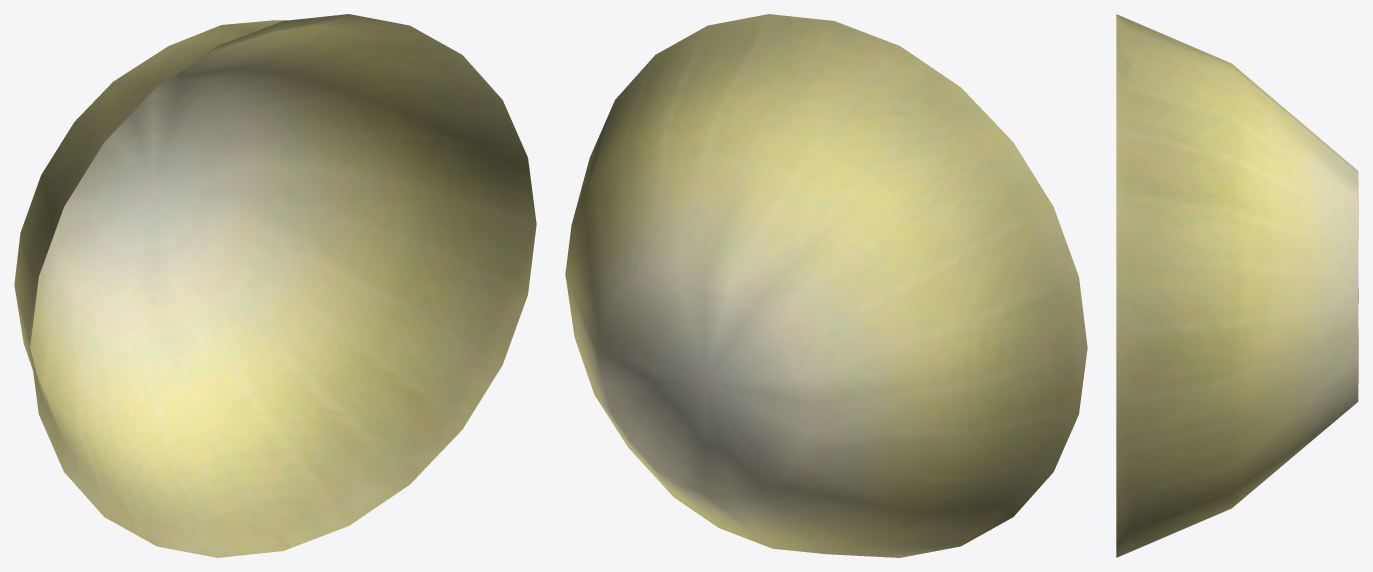
File: star_destroyer_space_engine2_on_l0.fbx
The picture shows the model from 3 angles, left to right: view 1: azimuth 30°, elevation 25°; view 2: azimuth 150°, elevation 25°; view 3: azimuth 270°, elevation 25°; orthographic projection. The views are drawn at different scales.
Parts seen in each view (by area): view 1: mesh_node; view 2: mesh_node; view 3: mesh_node.
Part boxes in pixels (box(x1,y1,x2,y2)): mesh_node: box(14, 14, 536, 557); mesh_node: box(565, 14, 1087, 557); mesh_node: box(1116, 14, 1358, 557).
Bounding box in the file's own units: 175 × 175 × 77.86.
